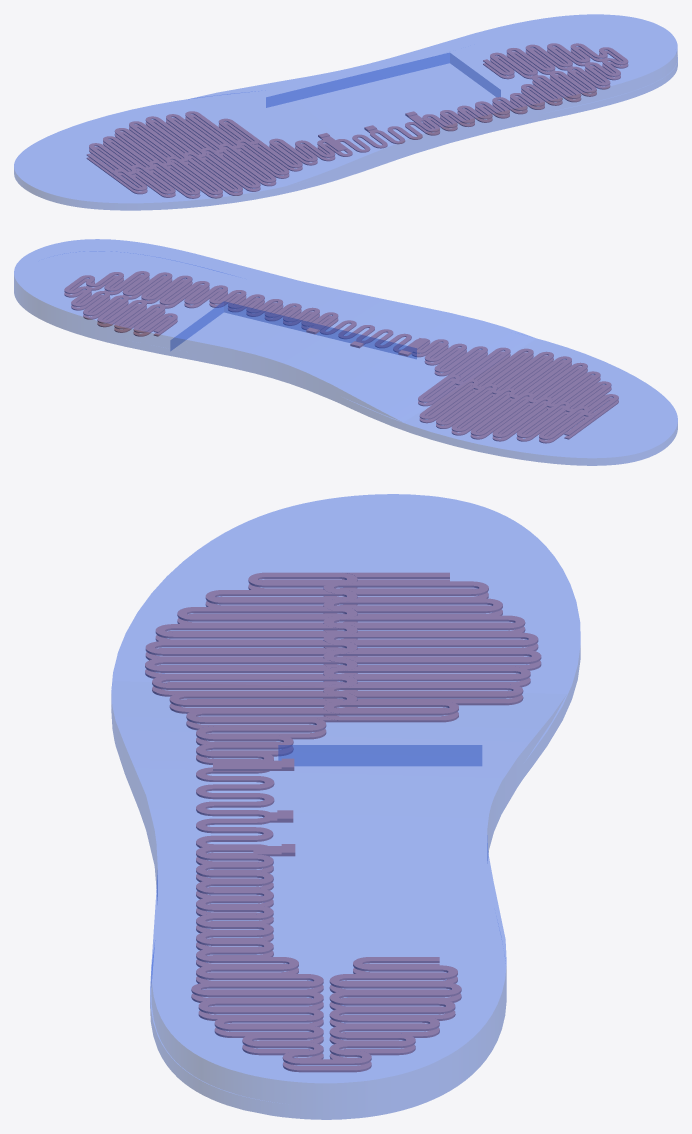
File: InsoleV5-heel.glb
3 views of the same model, one above another, from view 1: azimuth 30°, elevation 25°; view 2: azimuth 150°, elevation 25°; view 3: azimuth 270°, elevation 25° (orthographic). The views are drawn at different scales.
Size of the model in its own units: 0.2693 by 0.0075 by 0.0874.
